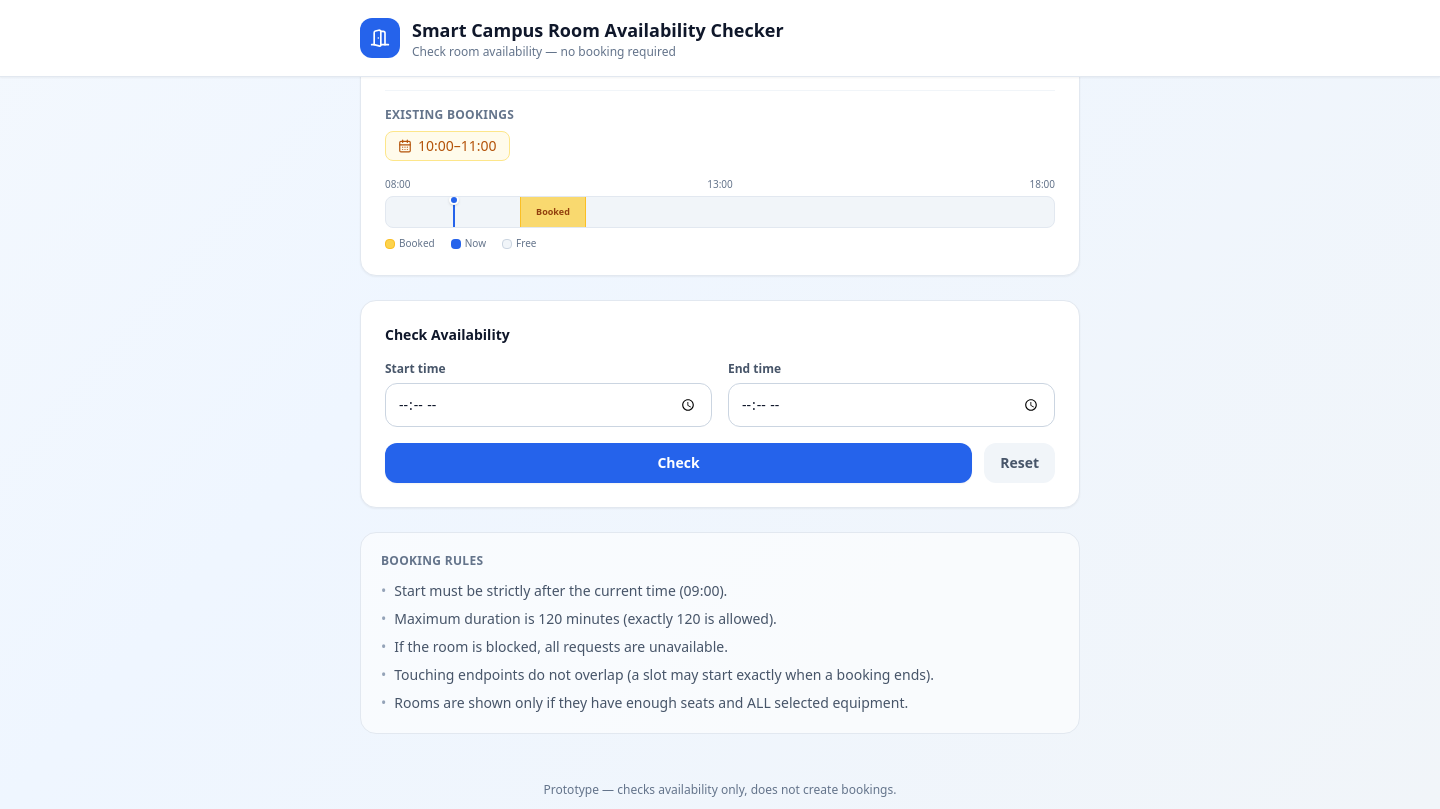
App UI — F5: changing room re-checks the same slot › 11:00–12:00 Available in R204, Unavailable in L310, Available again in R204
(page scrolled)
Type "11:00" into the time field labelled "Start time". click: (548, 405)
box: 385,383 -> 712,427
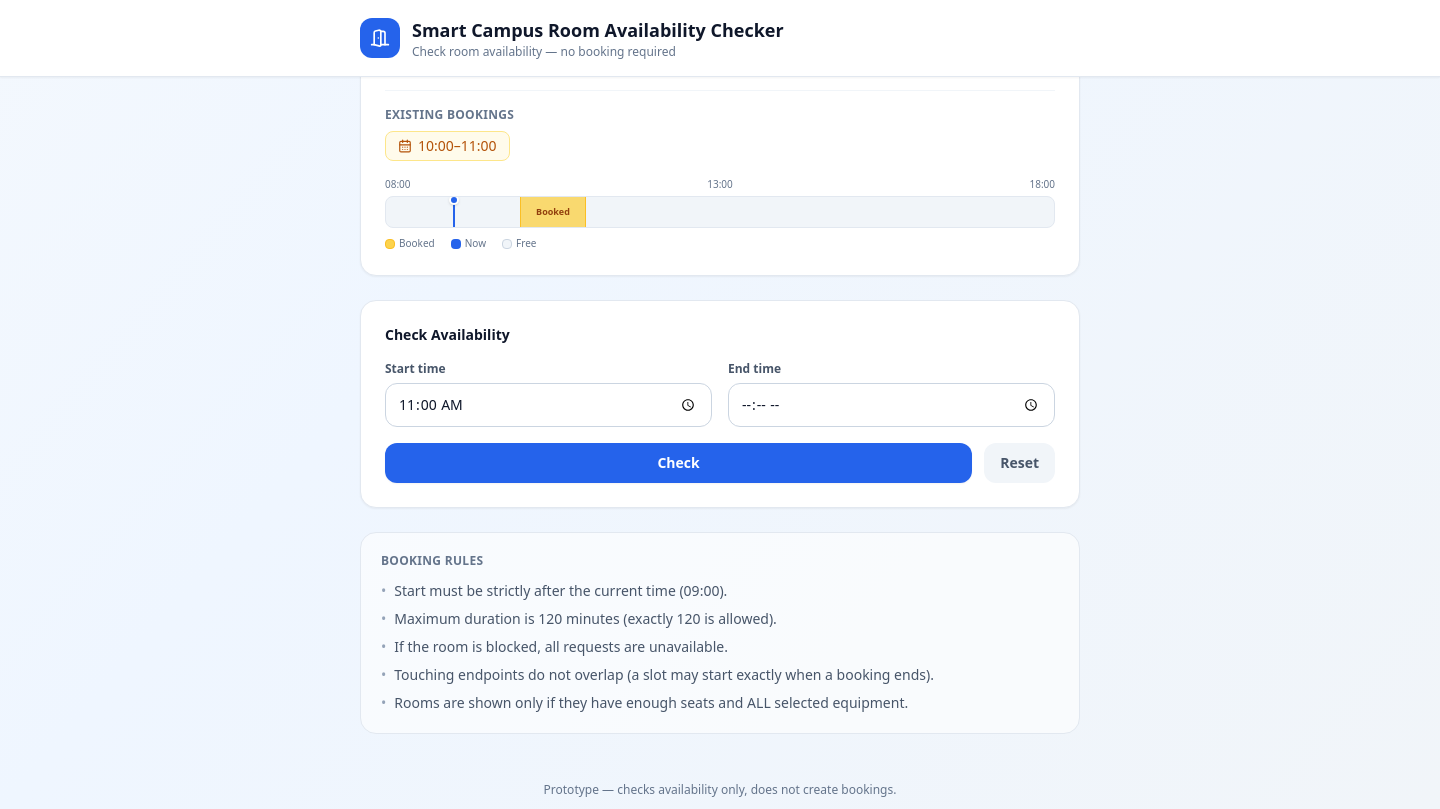
Type "12:00" into the time field labelled "End time". click: (892, 405)
box: 728,383 -> 1055,427
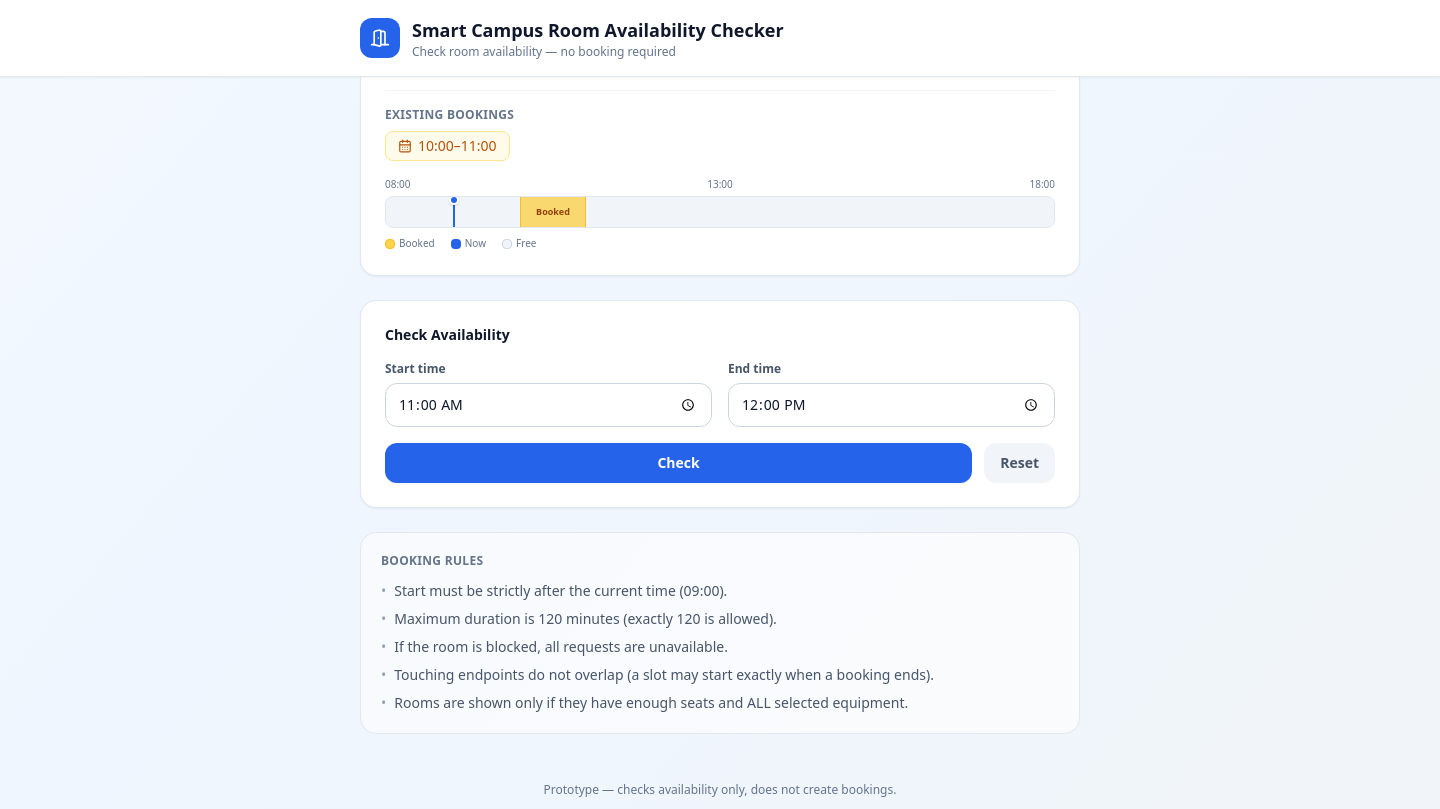
Click the button "Check". click: (679, 463)
box: 385,443 -> 972,483
(page scrolled)
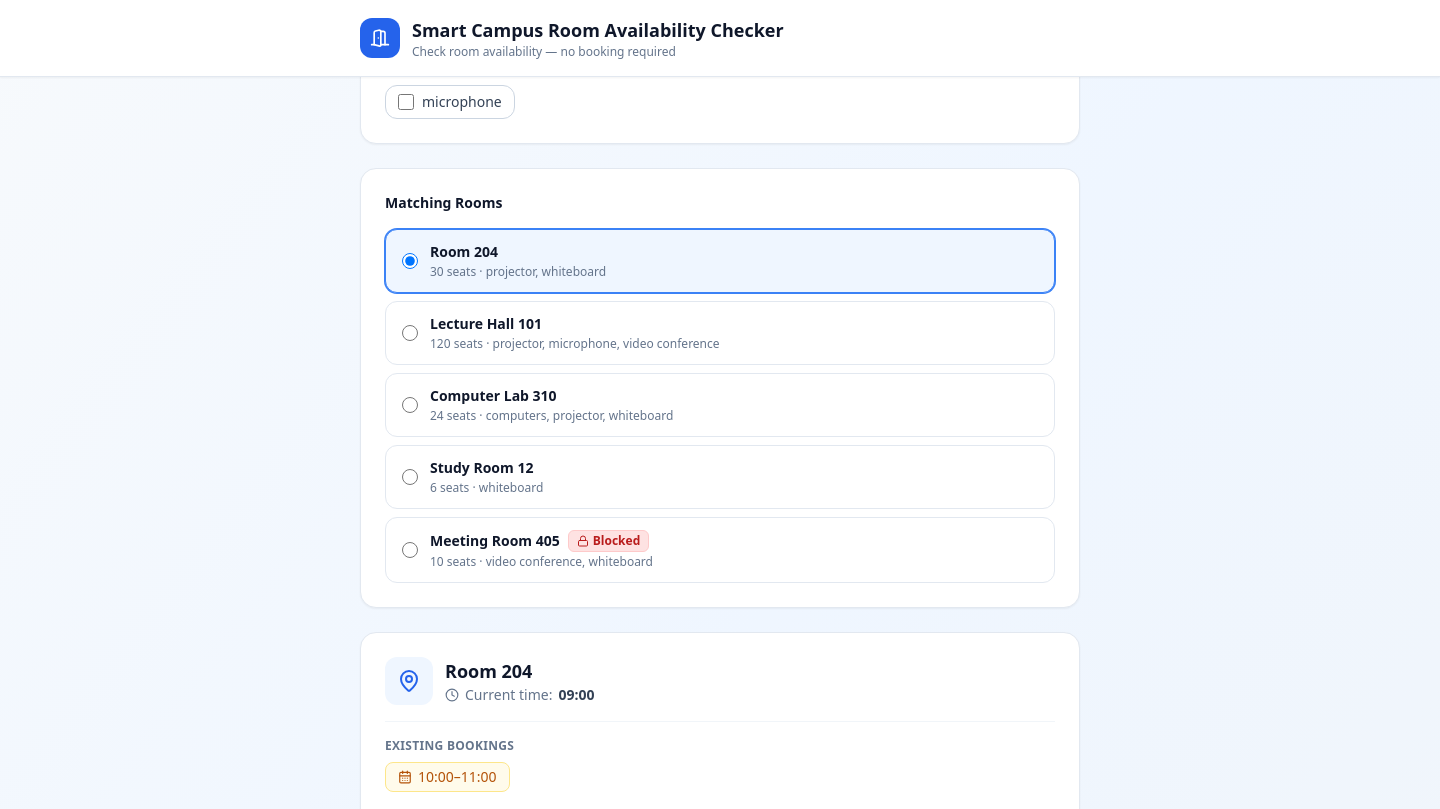
Click the radio button labelled "Computer Lab 310". click: (410, 405)
box: 402,397 -> 418,413
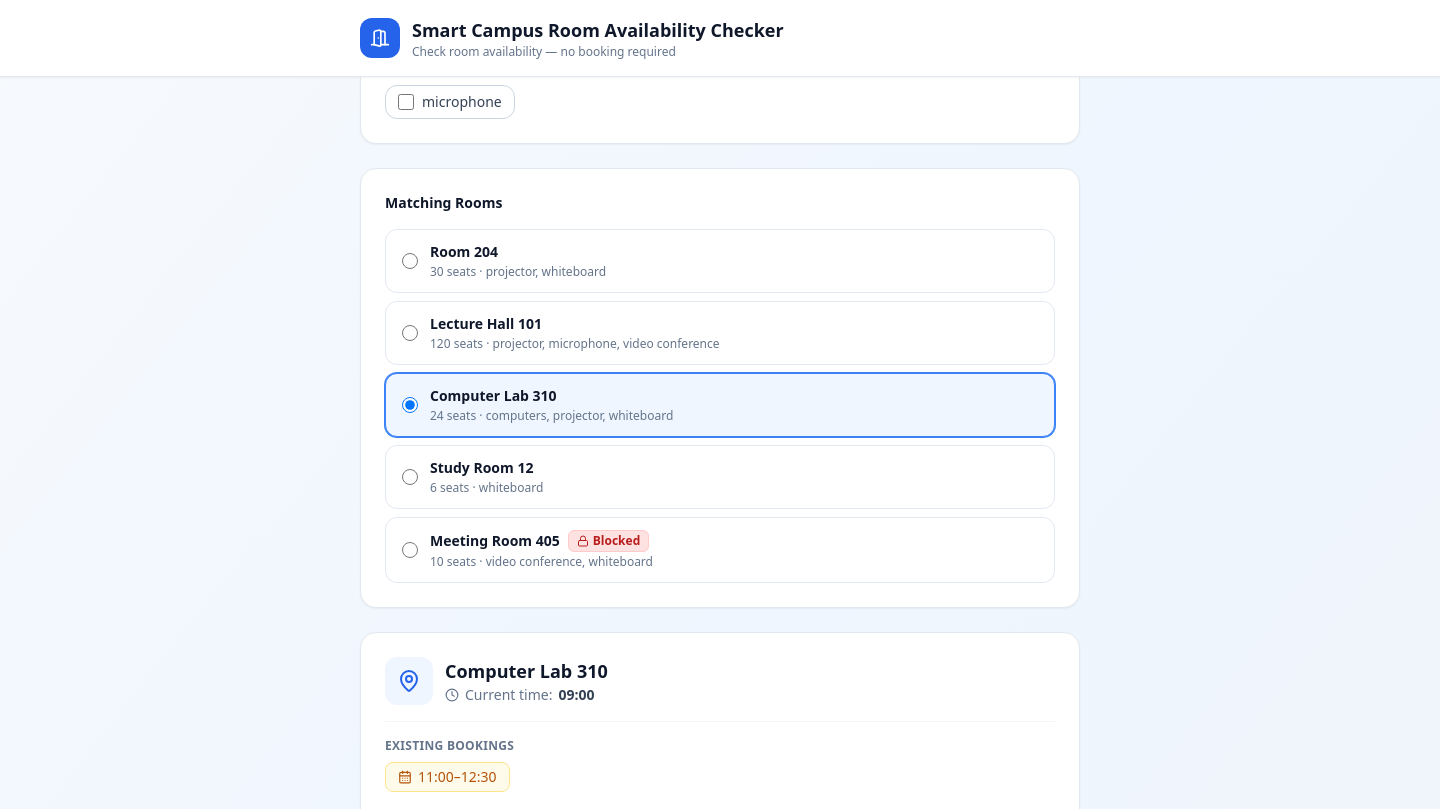
Click the radio button labelled "Room 204". click: (410, 261)
box: 402,253 -> 418,269
(page scrolled)
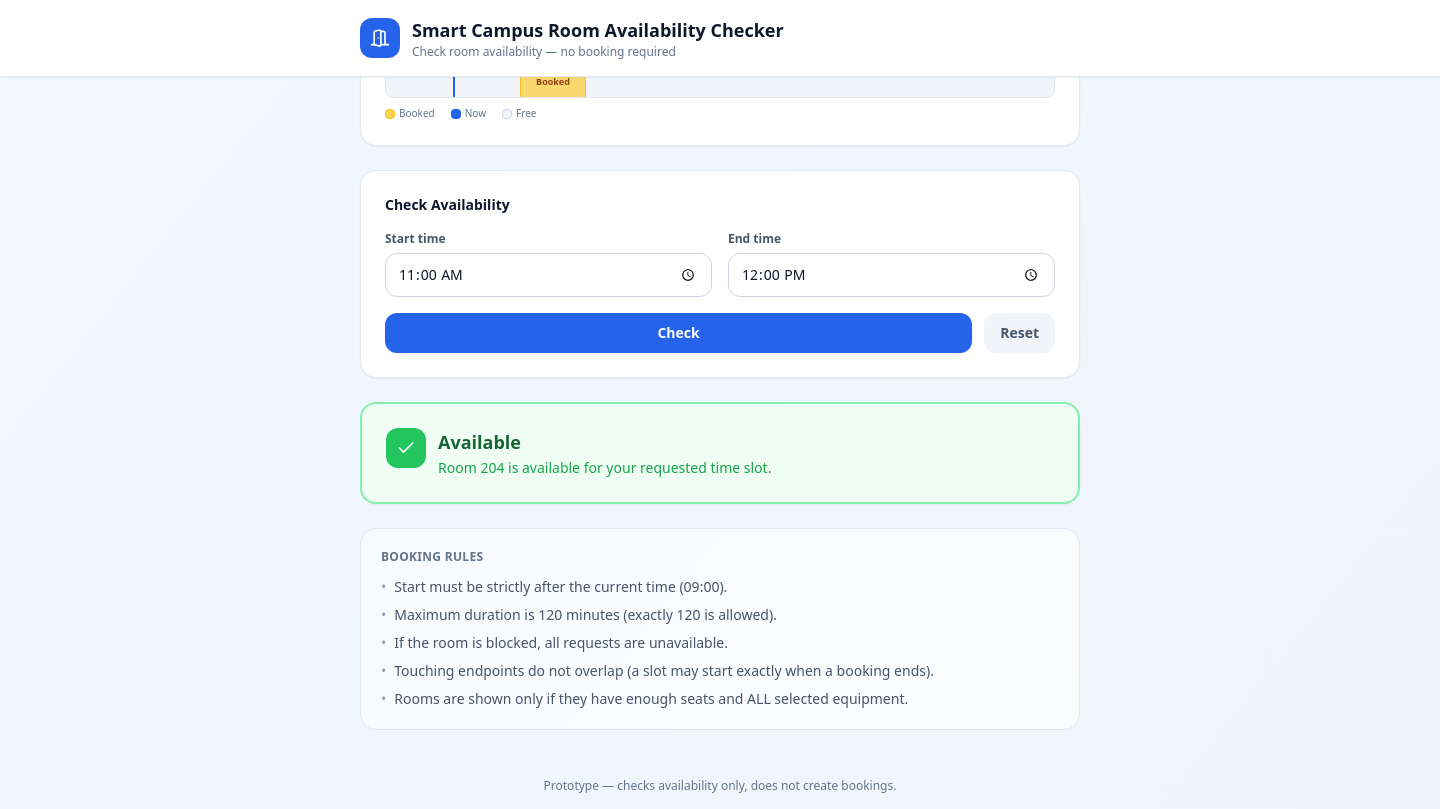
Check: the heading "Available" is shown, box 438,430 -> 521,454
